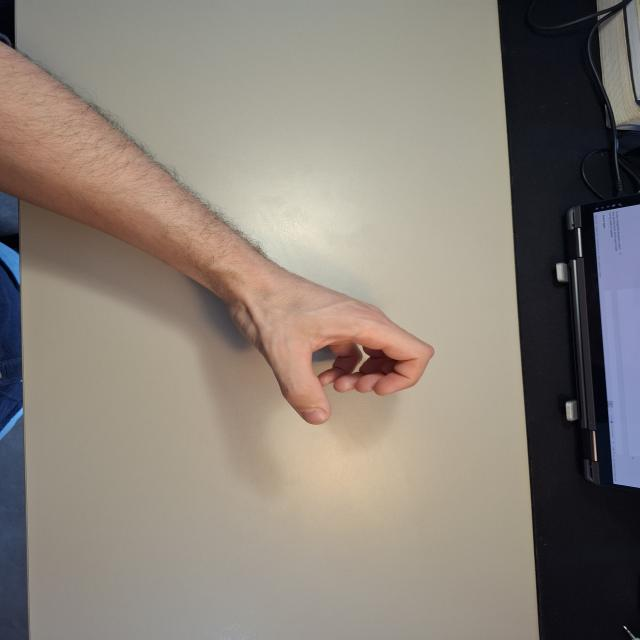glove_off: (221, 267, 437, 427)
